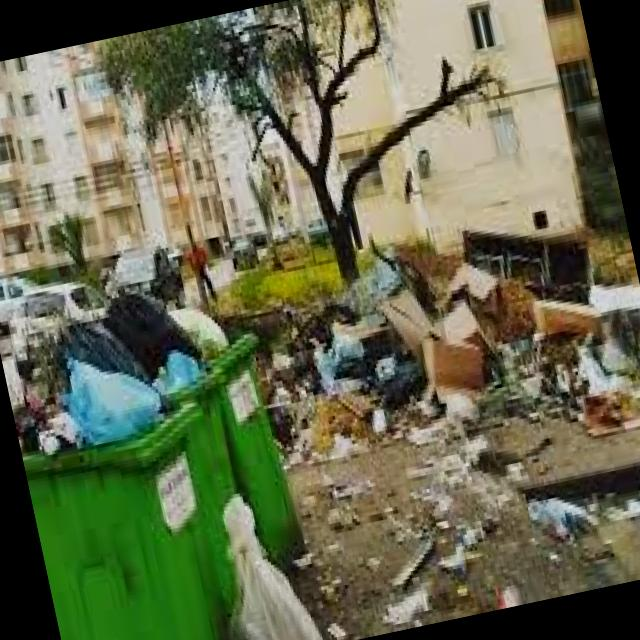garbage: (0, 255, 333, 640), (275, 206, 640, 509)
